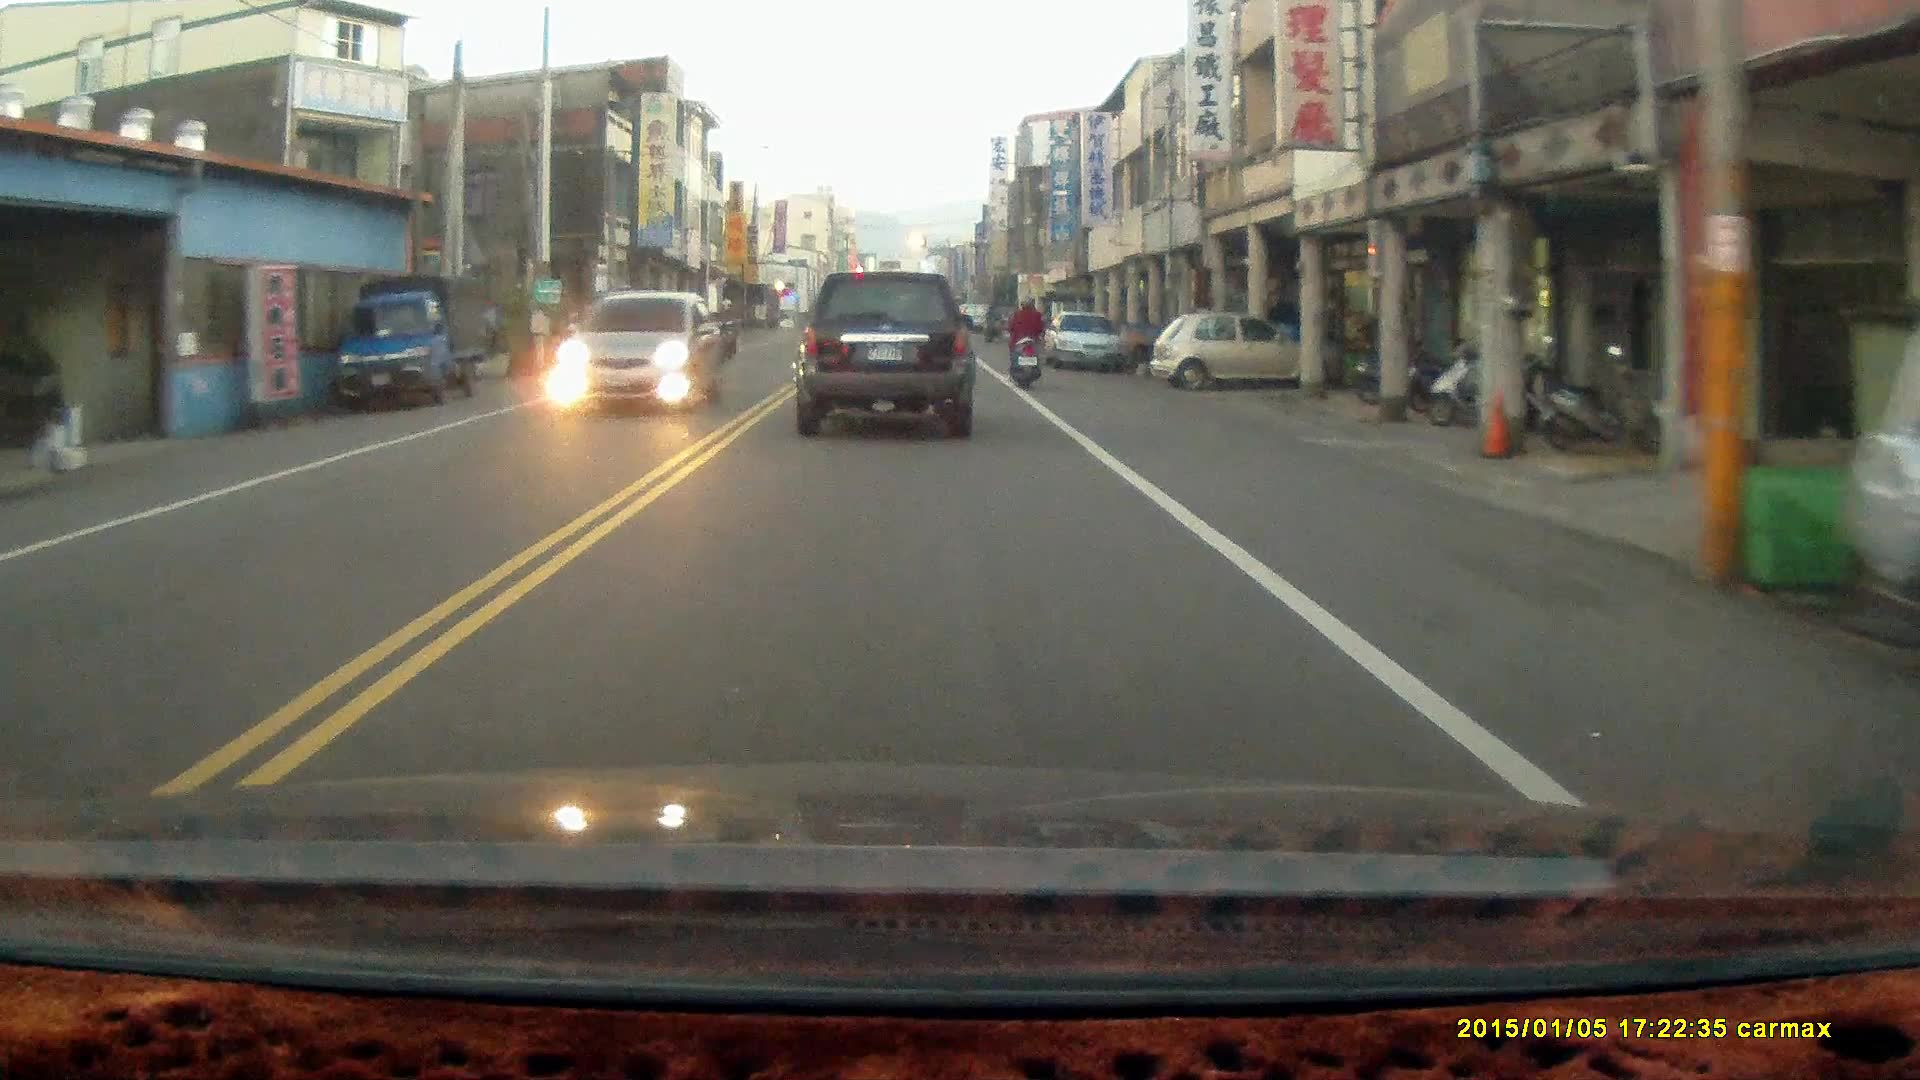rider: (1006, 291, 1043, 386), (705, 295, 738, 357)
vehicle: (792, 264, 977, 437), (337, 270, 496, 413), (558, 288, 729, 416), (1155, 307, 1323, 391), (1046, 311, 1132, 370)
